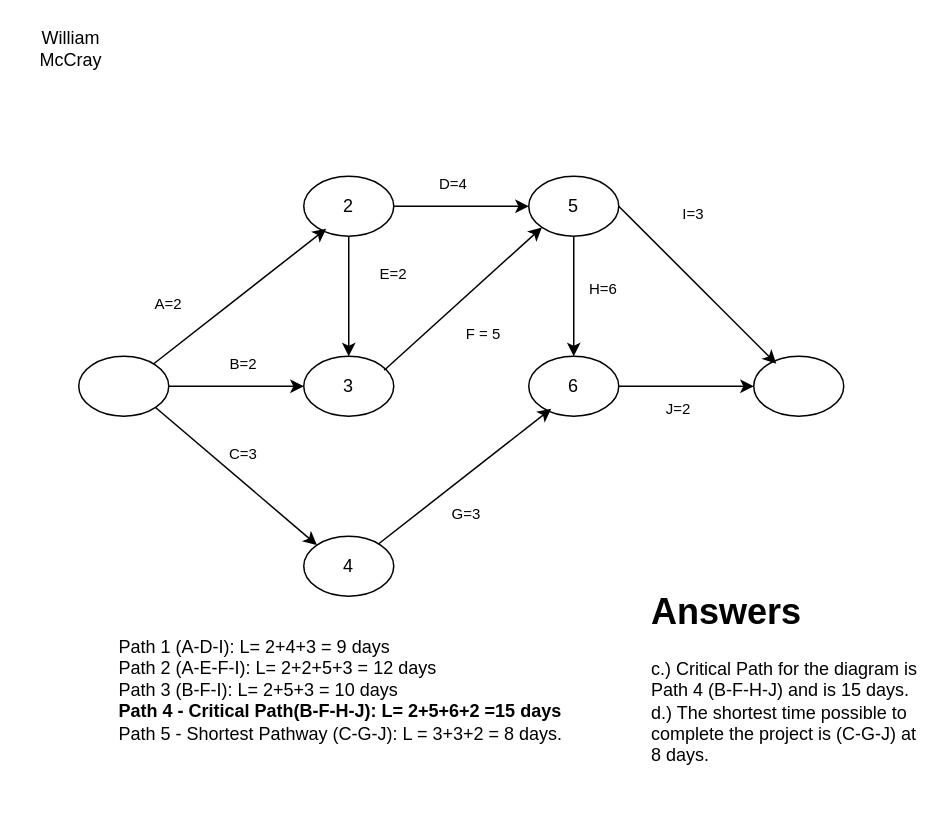
Some shapes in this 944 by 831 pixel diagram are drawn without their labels. The shapes that lost their labels are listed below. From the top down, each one's centre as x and y in pixels, then its label:
the point at 123,385: 1 - Head
the point at 798,385: 7 - Terminal
